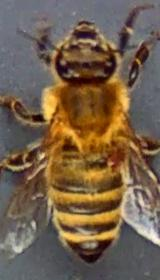varroa_mite: (101, 141, 130, 176)
